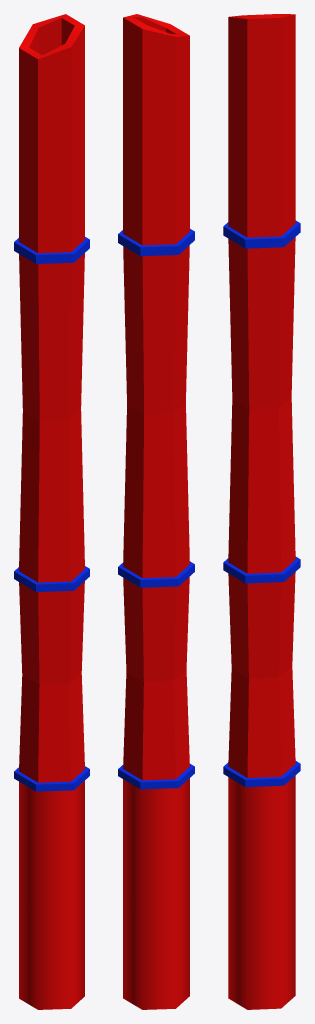
The model's file is Bamboo_1.fbx.
3 renders of one model, left to right at view 1: azimuth 30°, elevation 25°; view 2: azimuth 210°, elevation 25°; view 3: azimuth 270°, elevation 25°, orthographic. The views are drawn at different scales.
Parts seen in each view (by area): view 1: Bamboo_1; view 2: Bamboo_1; view 3: Bamboo_1.
Boxes of the visible parts, bbox=[...] form: Bamboo_1: bbox=[14, 14, 89, 1009]; Bamboo_1: bbox=[118, 14, 194, 1009]; Bamboo_1: bbox=[223, 14, 300, 1009].
Size of the model in its own units: 19.75 by 307 by 21.76.
